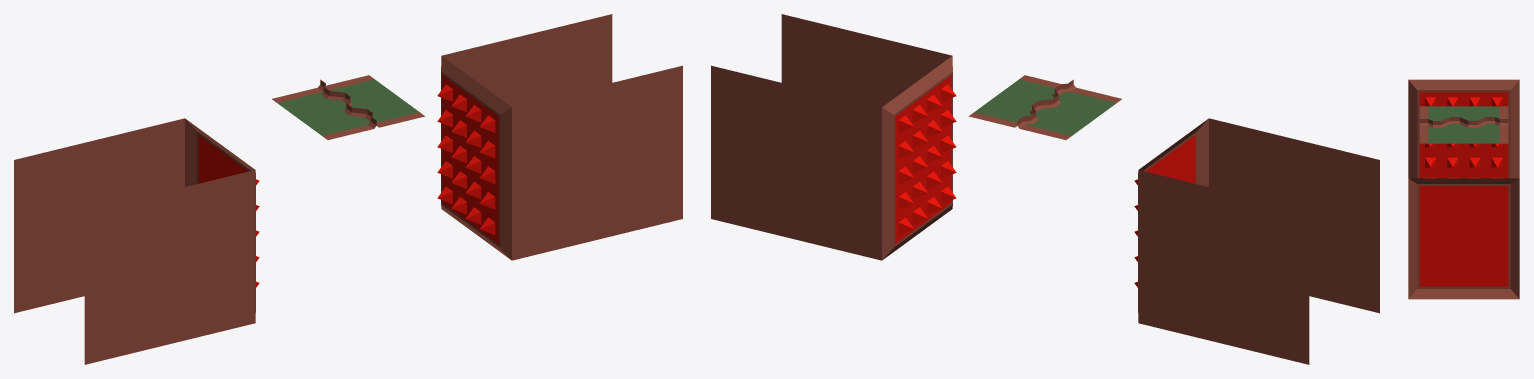
Rendered from Dragonfly_Crusher_MovingParts.fbx.
The picture shows the model from 3 angles, left to right: view 1: azimuth 30°, elevation 25°; view 2: azimuth 150°, elevation 25°; view 3: azimuth 270°, elevation 25°; orthographic projection. The views are drawn at different scales.
Visible parts, largest first — view 1: CrusherWall_Left, CrusherWall_Right, CrushRoomDoor_Left, CrushRoomDoor_Right; view 2: CrusherWall_Left, CrusherWall_Right, CrushRoomDoor_Left, CrushRoomDoor_Right; view 3: CrusherWall_Right, CrusherWall_Left, CrushRoomDoor_Right, CrushRoomDoor_Left.
Boxes of the visible parts, x1,y1,x2,y2 form: CrusherWall_Left: [14, 118, 259, 364]; CrusherWall_Right: [437, 14, 682, 260]; CrushRoomDoor_Left: [272, 79, 376, 139]; CrushRoomDoor_Right: [320, 75, 425, 127]; CrusherWall_Left: [1134, 118, 1379, 364]; CrusherWall_Right: [711, 14, 956, 260]; CrushRoomDoor_Left: [1017, 80, 1121, 139]; CrushRoomDoor_Right: [968, 75, 1073, 127]; CrusherWall_Right: [1408, 178, 1519, 299]; CrusherWall_Left: [1408, 79, 1519, 178]; CrushRoomDoor_Right: [1419, 117, 1508, 143]; CrushRoomDoor_Left: [1419, 106, 1508, 124].
Size of the model in its own units: 49 by 13 by 10.
